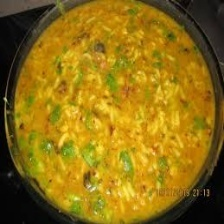dal: (0, 0, 224, 224)
